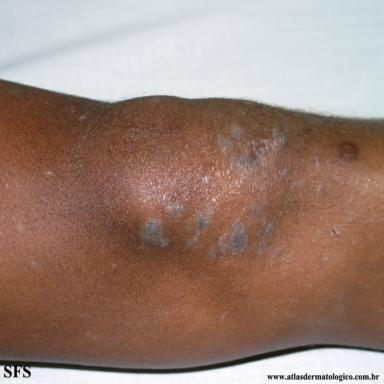lichen: (217, 124, 286, 175), (187, 202, 214, 247), (217, 220, 248, 255), (139, 217, 169, 250), (257, 223, 274, 255), (250, 198, 267, 227), (163, 202, 185, 217), (270, 247, 281, 266), (209, 248, 217, 259), (16, 223, 24, 234), (331, 228, 340, 237), (203, 176, 209, 184), (317, 185, 322, 194)
